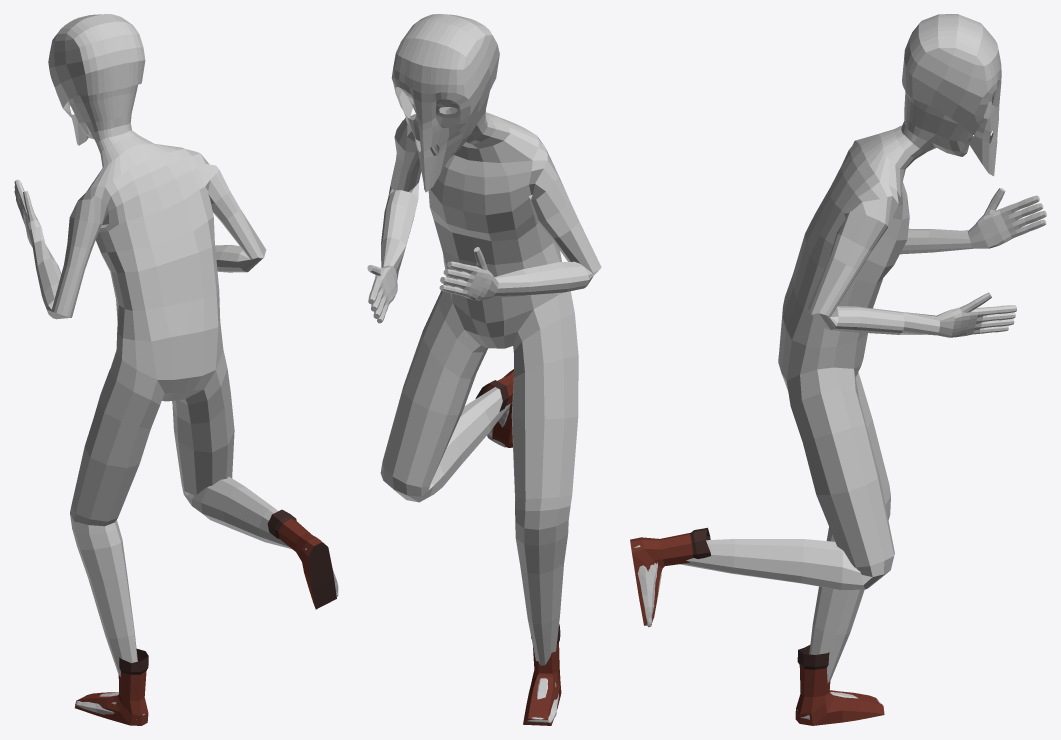
Rendered from correr_000157.obj.
The picture shows the model from 3 angles, left to right: view 1: azimuth 30°, elevation 25°; view 2: azimuth 150°, elevation 25°; view 3: azimuth 270°, elevation 25°; orthographic projection. The views are drawn at different scales.
Visible parts, largest first — view 1: Plane.002_Plane.001, Plane.003, Plane.004; view 2: Plane.002_Plane.001, Plane.004, Plane.003; view 3: Plane.002_Plane.001, Plane.004, Plane.003.
Part boxes in pixels (<box>): Plane.002_Plane.001: <box>14,14,338,719</box>; Plane.003: <box>267,509,336,609</box>; Plane.004: <box>75,649,148,725</box>; Plane.002_Plane.001: <box>367,14,601,722</box>; Plane.004: <box>523,624,561,725</box>; Plane.003: <box>475,369,513,447</box>; Plane.002_Plane.001: <box>634,14,1046,719</box>; Plane.004: <box>795,645,884,725</box>; Plane.003: <box>630,527,710,625</box>.
Size of the model in its own units: 2.13 by 6.63 by 3.51.
